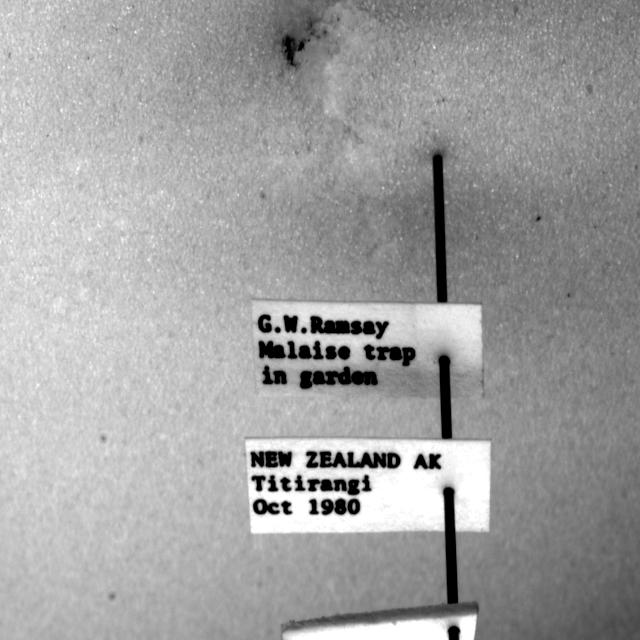typed_label: (246, 439, 491, 534), (251, 300, 484, 398)
